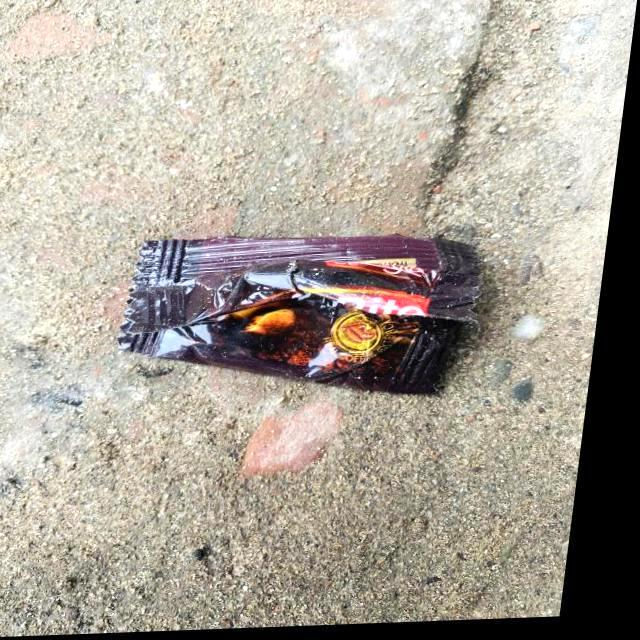packet: (131, 221, 506, 394)
